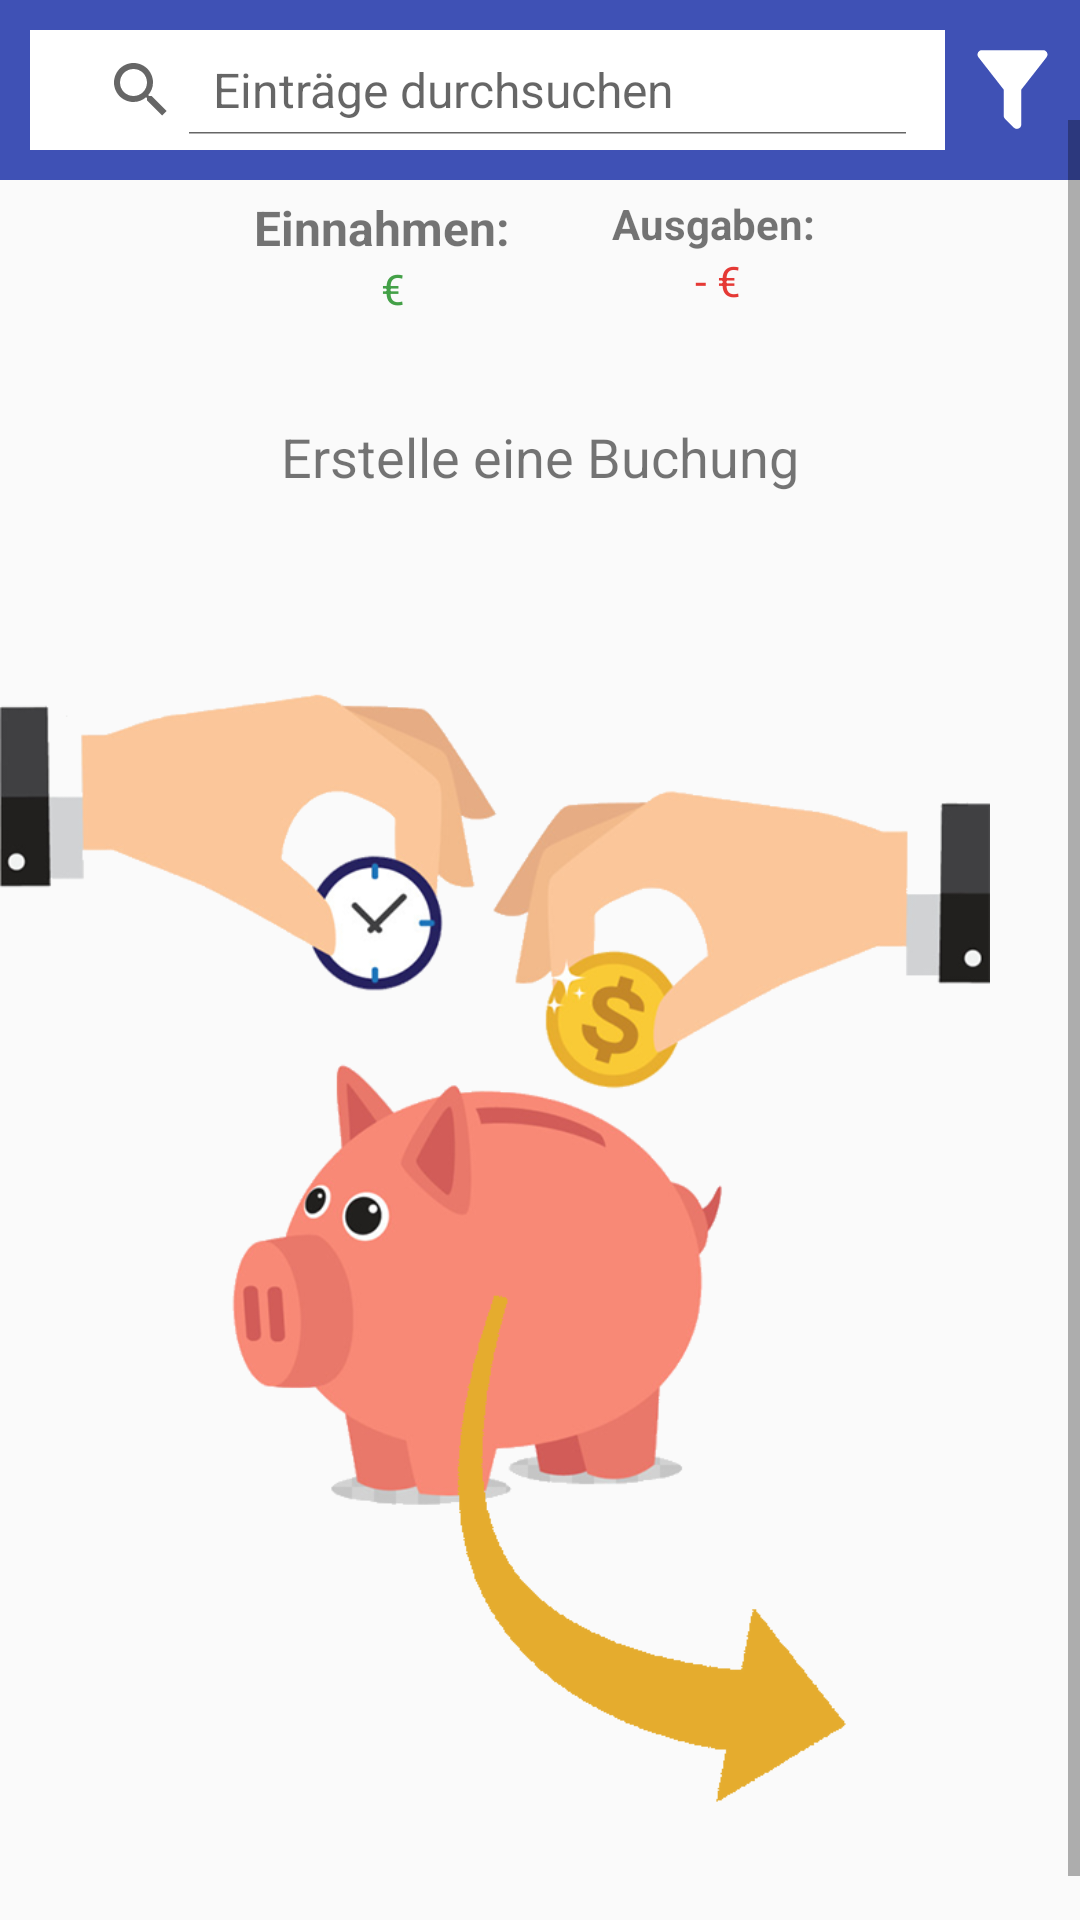

Icon bounding boxes for this 1080w x 1920h phone screenshot, format (x1=x1, y1=y1, x2=x2, y2=y2):
filter: (x1=977, y1=50, x2=1048, y2=129)
